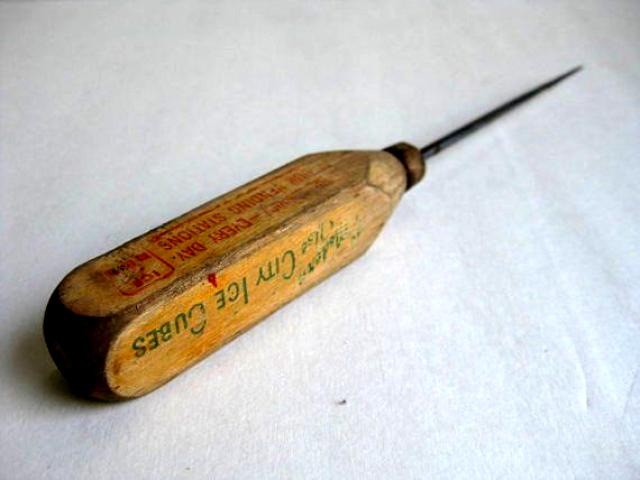ice pick: (44, 65, 582, 402)
